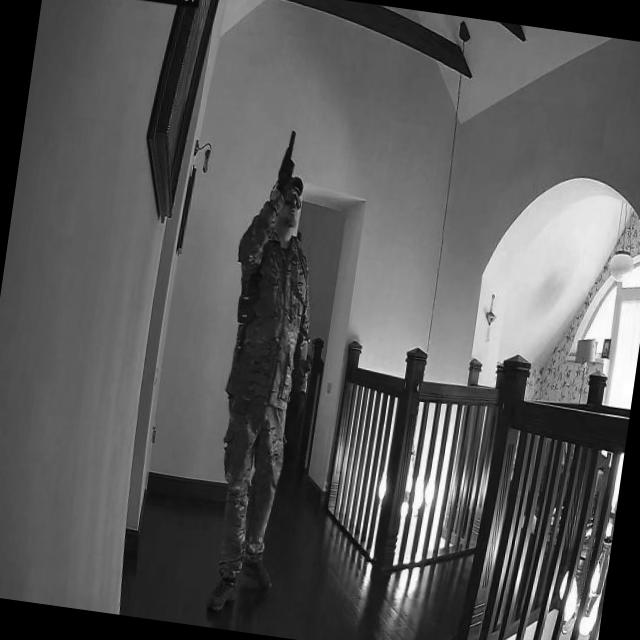gun: (277, 128, 302, 198)
person with a gun: (195, 123, 338, 620)
